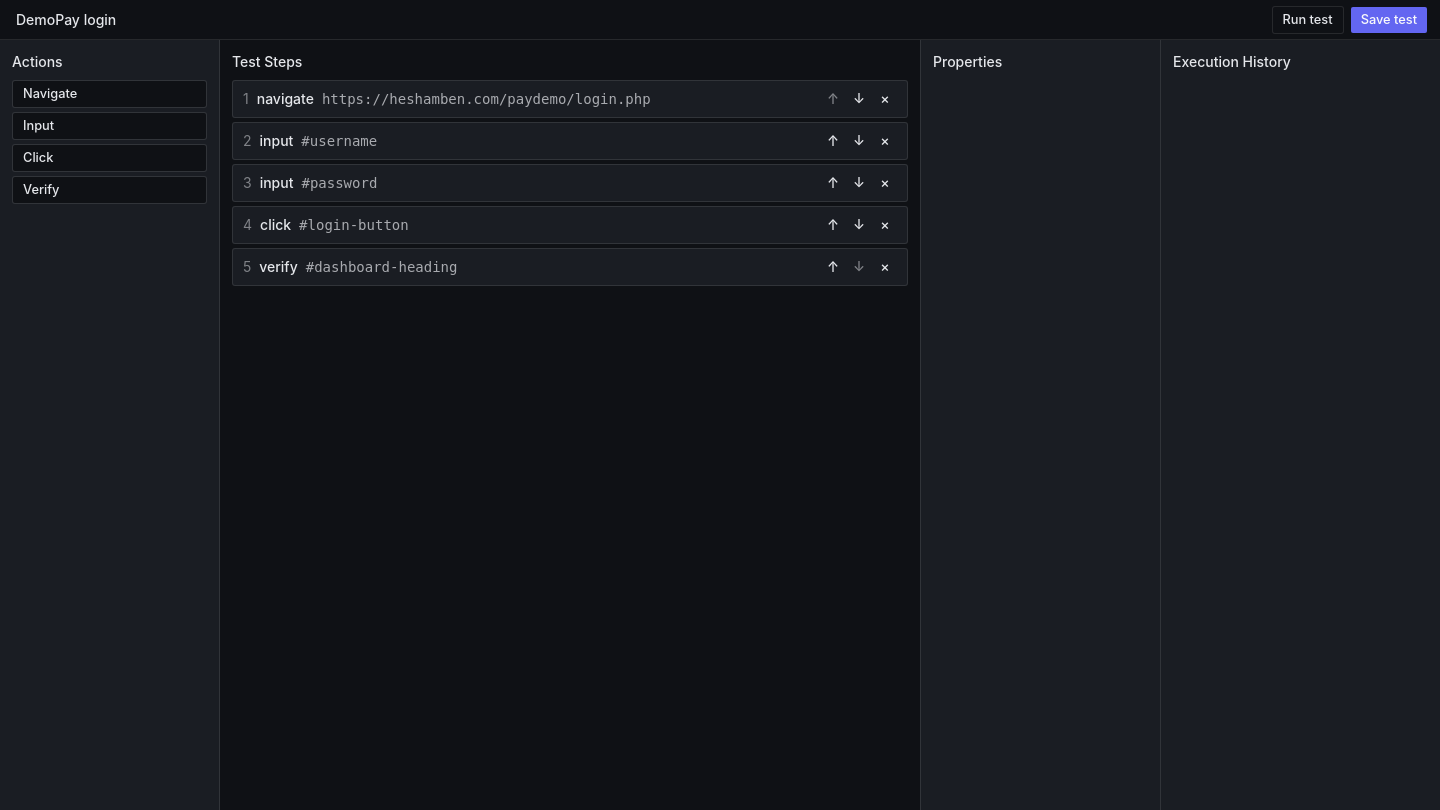
TestDesigner › clears the selection and Properties when the deleted step was selected
The width and height of the screenshot is (1440, 810).
What coordinates should you click on to do the following:
click the list item "2 input #username ↑ ↓ ×"
I would click on:
 (570, 141)
Its box is [232, 122, 908, 160].
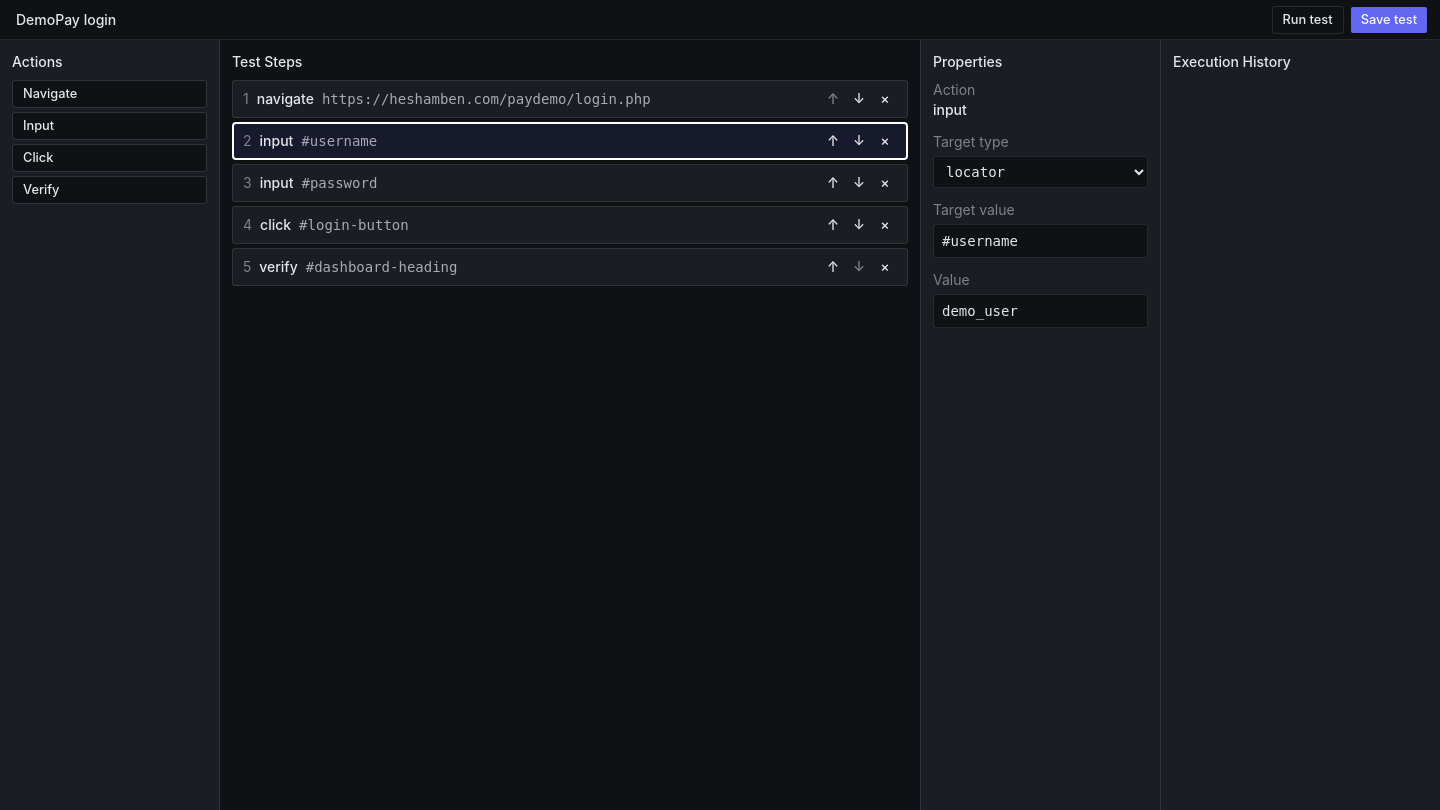
Expected: the field labelled "Target value" holds "#username", [933, 224, 1148, 258]
What coordinates should you click on to do the following:
click the button named "Delete"
I would click on:
 (885, 141)
Its box is [873, 129, 897, 153].
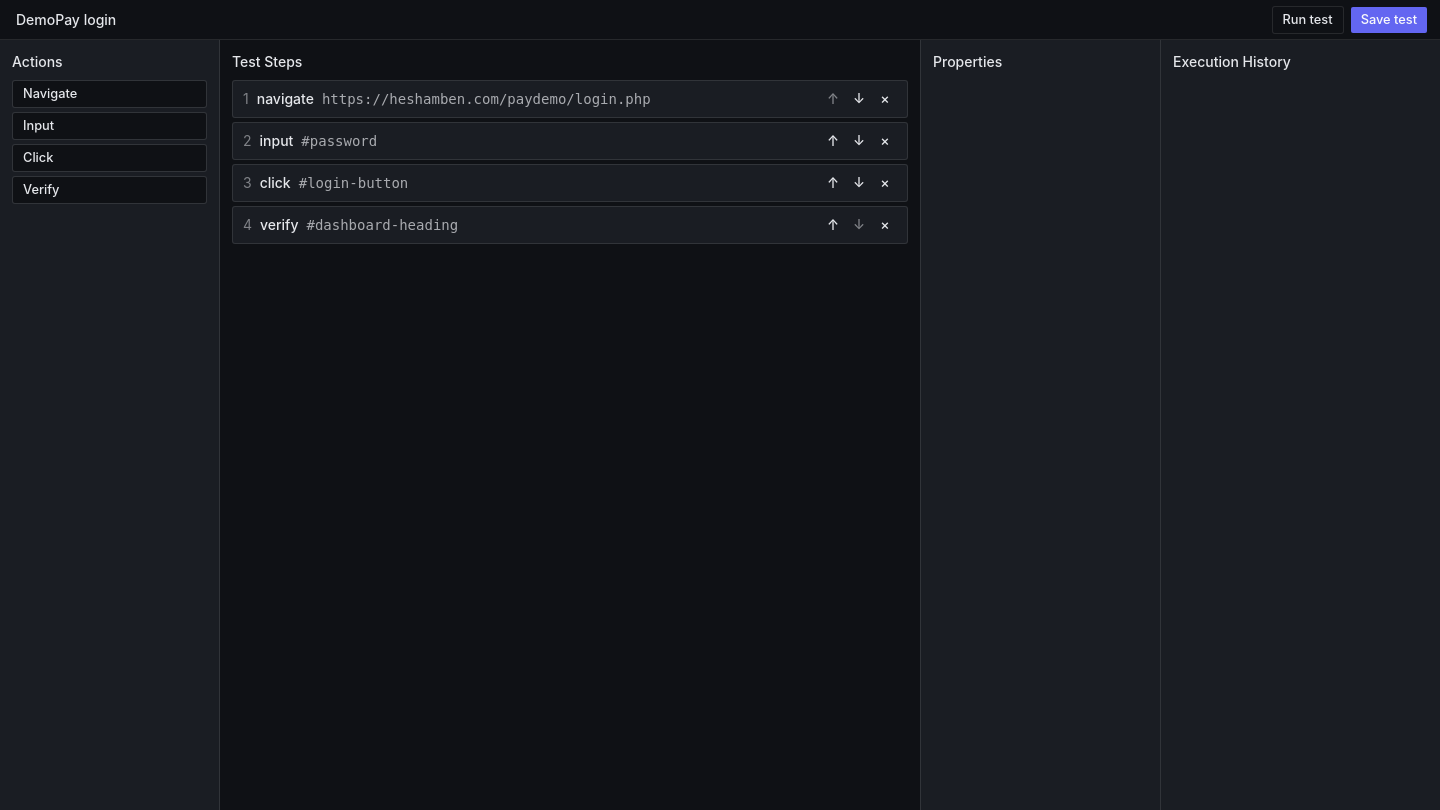
Expected: the label labelled "Target value" is gone
